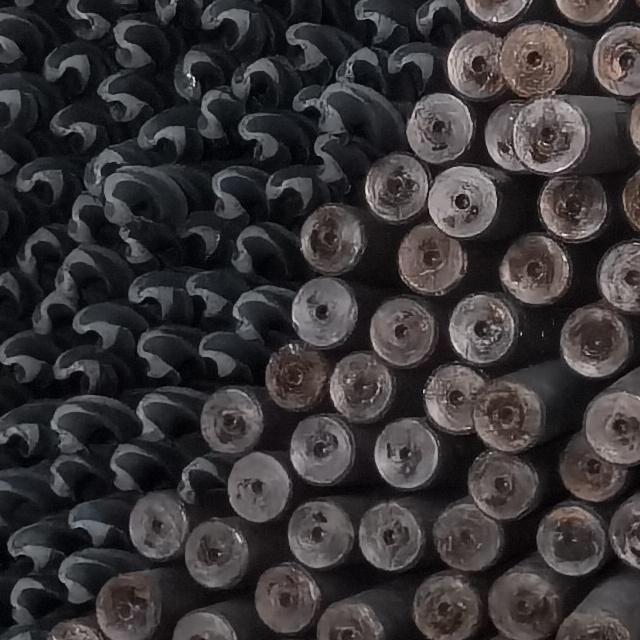tool: (548, 298, 637, 378), (500, 21, 593, 96), (489, 550, 564, 638), (449, 290, 530, 364), (401, 568, 483, 639), (554, 430, 630, 506), (516, 99, 590, 177), (390, 223, 466, 296), (532, 502, 605, 578), (586, 366, 640, 464), (431, 166, 502, 240), (500, 233, 572, 304), (434, 496, 504, 568), (292, 279, 361, 351), (254, 561, 322, 634), (375, 416, 443, 489), (292, 412, 359, 486), (421, 358, 488, 432), (468, 449, 539, 518), (94, 572, 164, 640), (537, 176, 608, 243), (327, 353, 394, 423), (371, 296, 436, 368), (261, 338, 326, 410), (301, 203, 368, 272), (286, 496, 352, 566), (406, 91, 471, 162), (227, 451, 292, 522), (482, 104, 549, 172), (367, 154, 430, 226), (186, 520, 250, 590), (199, 384, 264, 452), (358, 506, 424, 570), (477, 388, 541, 452), (128, 488, 183, 559), (448, 32, 503, 102), (597, 240, 640, 314), (594, 19, 640, 82), (316, 600, 388, 640), (608, 488, 640, 570), (558, 611, 634, 640), (174, 611, 238, 640), (31, 615, 104, 640), (549, 0, 626, 23), (466, 1, 537, 24), (622, 168, 640, 231), (626, 99, 640, 151)
tool_b: (53, 395, 141, 453), (161, 268, 247, 326), (198, 0, 282, 54), (223, 220, 301, 278), (46, 244, 128, 299), (136, 390, 211, 450), (232, 283, 298, 347), (237, 113, 315, 167), (51, 344, 132, 395), (74, 303, 150, 357), (49, 100, 121, 156), (382, 40, 449, 100), (138, 104, 206, 163), (16, 153, 86, 210), (134, 326, 202, 384), (0, 70, 63, 132), (99, 68, 174, 120), (231, 54, 302, 108), (195, 328, 264, 383), (0, 561, 60, 624), (42, 42, 110, 97), (2, 520, 71, 574), (170, 45, 234, 102), (262, 166, 329, 220), (0, 5, 56, 68), (0, 328, 56, 391), (208, 168, 268, 226), (0, 399, 56, 461), (102, 444, 171, 494), (56, 548, 116, 605), (118, 216, 183, 268), (111, 14, 170, 71), (343, 0, 416, 45), (8, 224, 66, 278), (39, 452, 104, 500), (66, 496, 131, 544), (197, 89, 245, 153), (170, 209, 222, 266), (177, 456, 230, 508), (0, 467, 44, 529), (282, 20, 328, 77), (81, 142, 134, 190), (102, 175, 154, 223), (304, 81, 352, 133), (410, 0, 469, 40), (128, 272, 176, 320), (59, 191, 105, 241), (0, 266, 34, 333), (27, 290, 77, 335), (310, 138, 350, 184), (62, 0, 110, 38), (0, 126, 37, 174), (0, 174, 24, 242), (336, 48, 376, 86), (252, 0, 321, 21), (139, 1, 189, 22)
